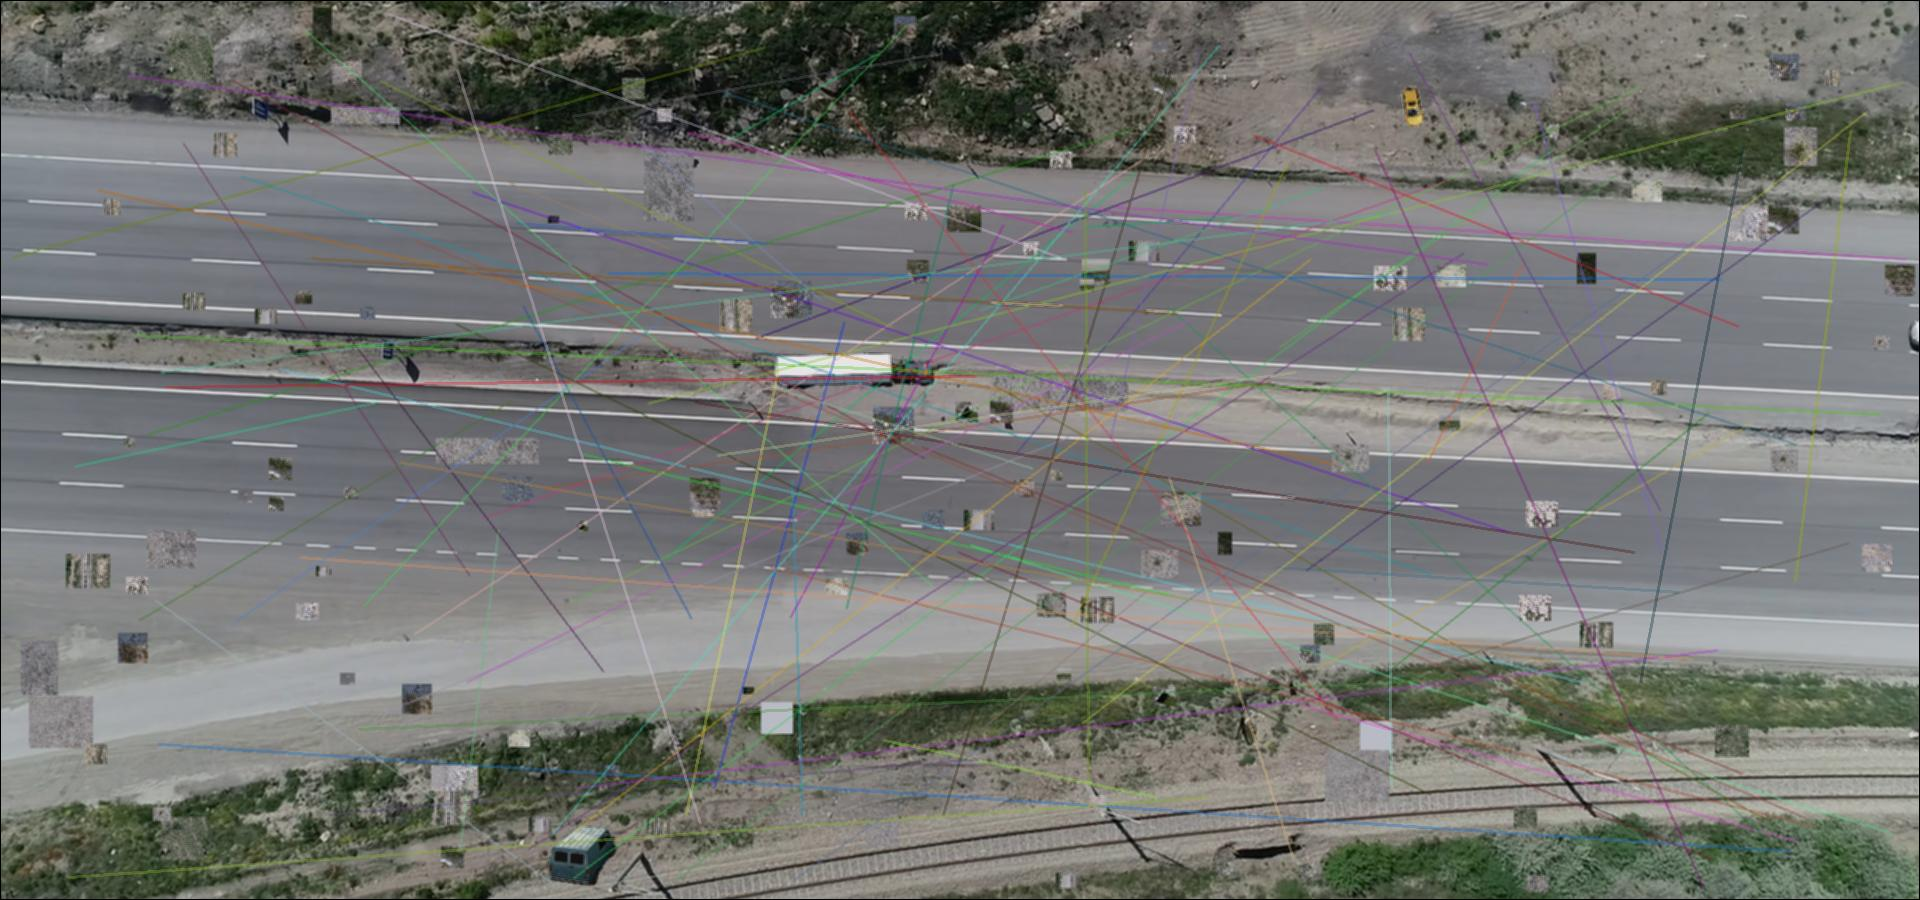arac: (771, 353, 936, 389), (547, 822, 618, 885), (1398, 86, 1425, 129)
